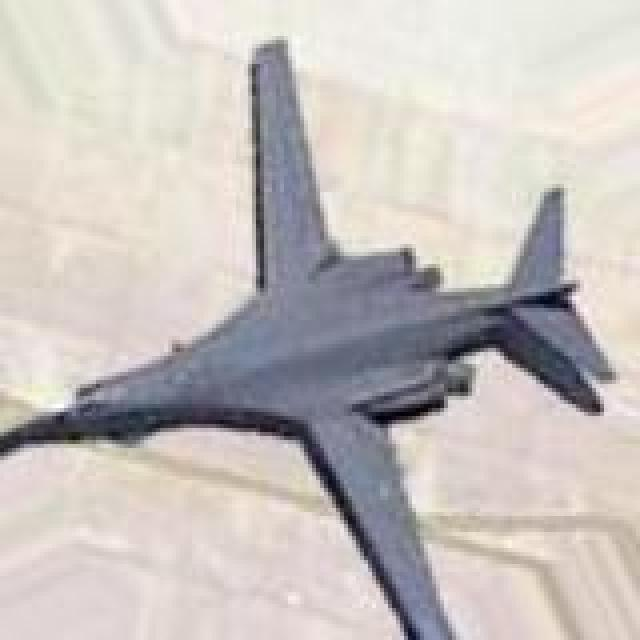B-1_TopDown: (0, 32, 616, 636)
